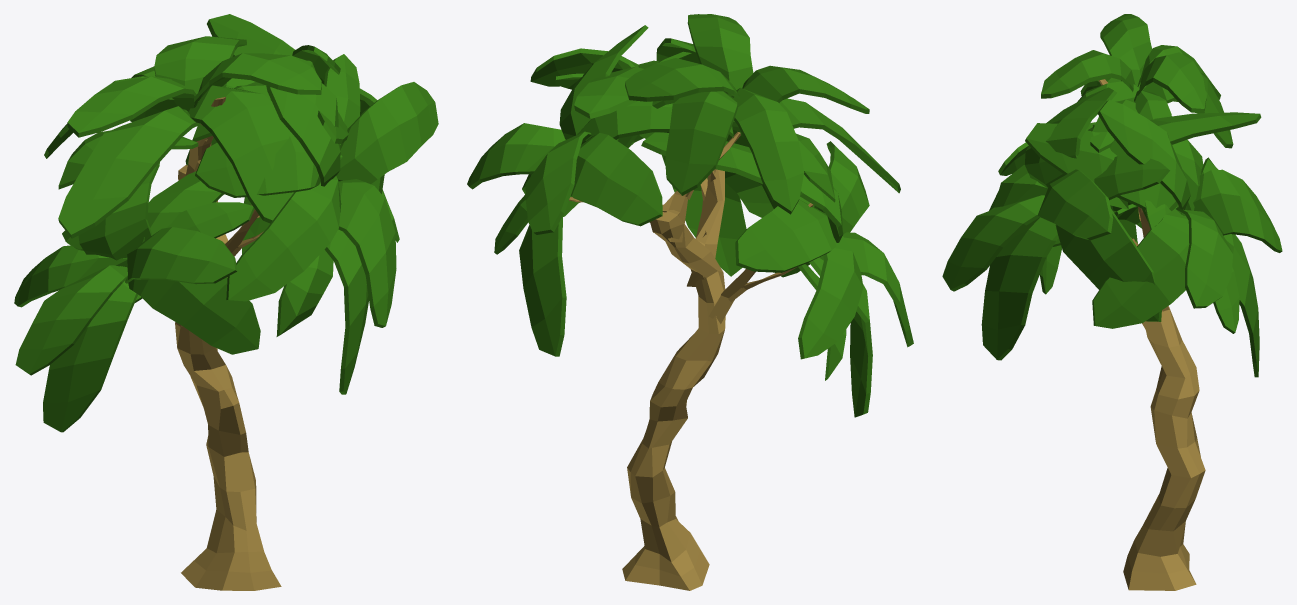
The model's file is big palm tree.fbx.
The picture shows the model from 3 angles, left to right: view 1: azimuth 30°, elevation 25°; view 2: azimuth 150°, elevation 25°; view 3: azimuth 270°, elevation 25°; orthographic projection. The views are drawn at different scales.
Visible parts, largest first — view 1: Plane.008; view 2: Plane.008; view 3: Plane.008.
Boxes of the visible parts, box(x1,y1,x2,y2) form: Plane.008: box(14, 14, 438, 590); Plane.008: box(467, 14, 913, 590); Plane.008: box(942, 14, 1282, 590).
Size of the model in its own units: 654 by 817 by 491.
